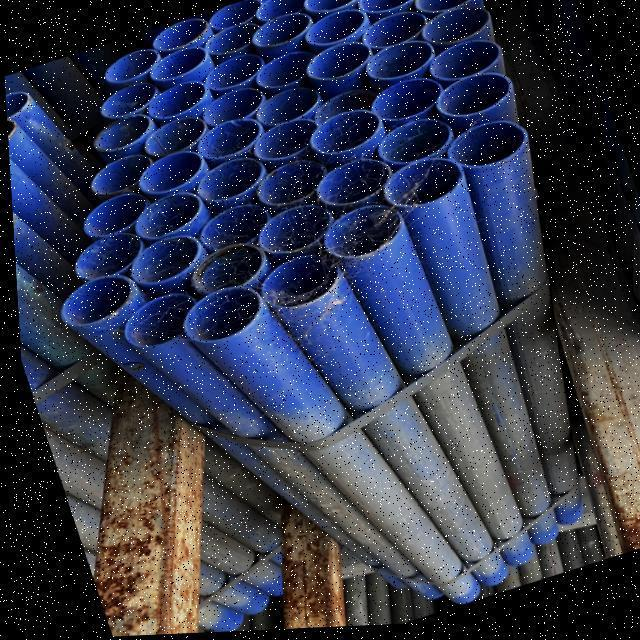pipe: (255, 255, 339, 316), (321, 203, 399, 261), (178, 286, 257, 343), (251, 157, 326, 215), (383, 160, 462, 215), (77, 190, 159, 242), (119, 296, 195, 352), (67, 228, 144, 283), (196, 207, 279, 258), (193, 151, 263, 211), (187, 243, 262, 297), (55, 275, 128, 330), (251, 210, 328, 262), (444, 125, 527, 173), (378, 118, 453, 171), (367, 83, 442, 135), (420, 43, 501, 91), (314, 158, 387, 210), (125, 237, 195, 291), (127, 193, 201, 244), (431, 77, 511, 124), (83, 151, 156, 202), (309, 110, 380, 160), (134, 154, 205, 204), (248, 121, 316, 173), (248, 53, 323, 98), (192, 120, 261, 168), (354, 11, 436, 51), (361, 42, 437, 85), (251, 86, 322, 130), (94, 75, 159, 123), (138, 117, 207, 162), (194, 87, 269, 127), (87, 110, 149, 157), (202, 53, 264, 98), (422, 2, 485, 46), (144, 84, 206, 128), (248, 13, 316, 53), (307, 46, 371, 88), (203, 19, 260, 62), (307, 91, 378, 125), (145, 49, 205, 88), (304, 9, 363, 48), (150, 14, 206, 55), (100, 48, 158, 86), (209, 0, 257, 29), (412, 0, 479, 19), (257, 0, 310, 23), (357, 0, 415, 19), (301, 0, 359, 18), (4, 91, 26, 117)
